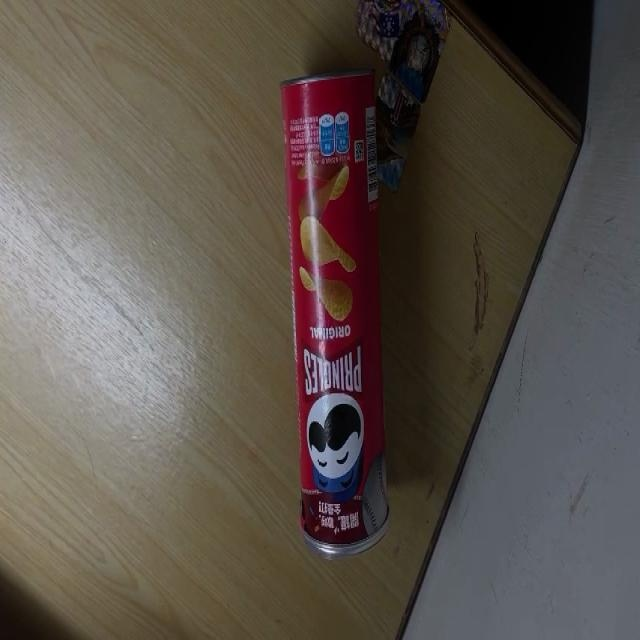Pringles: (279, 70, 389, 560)
